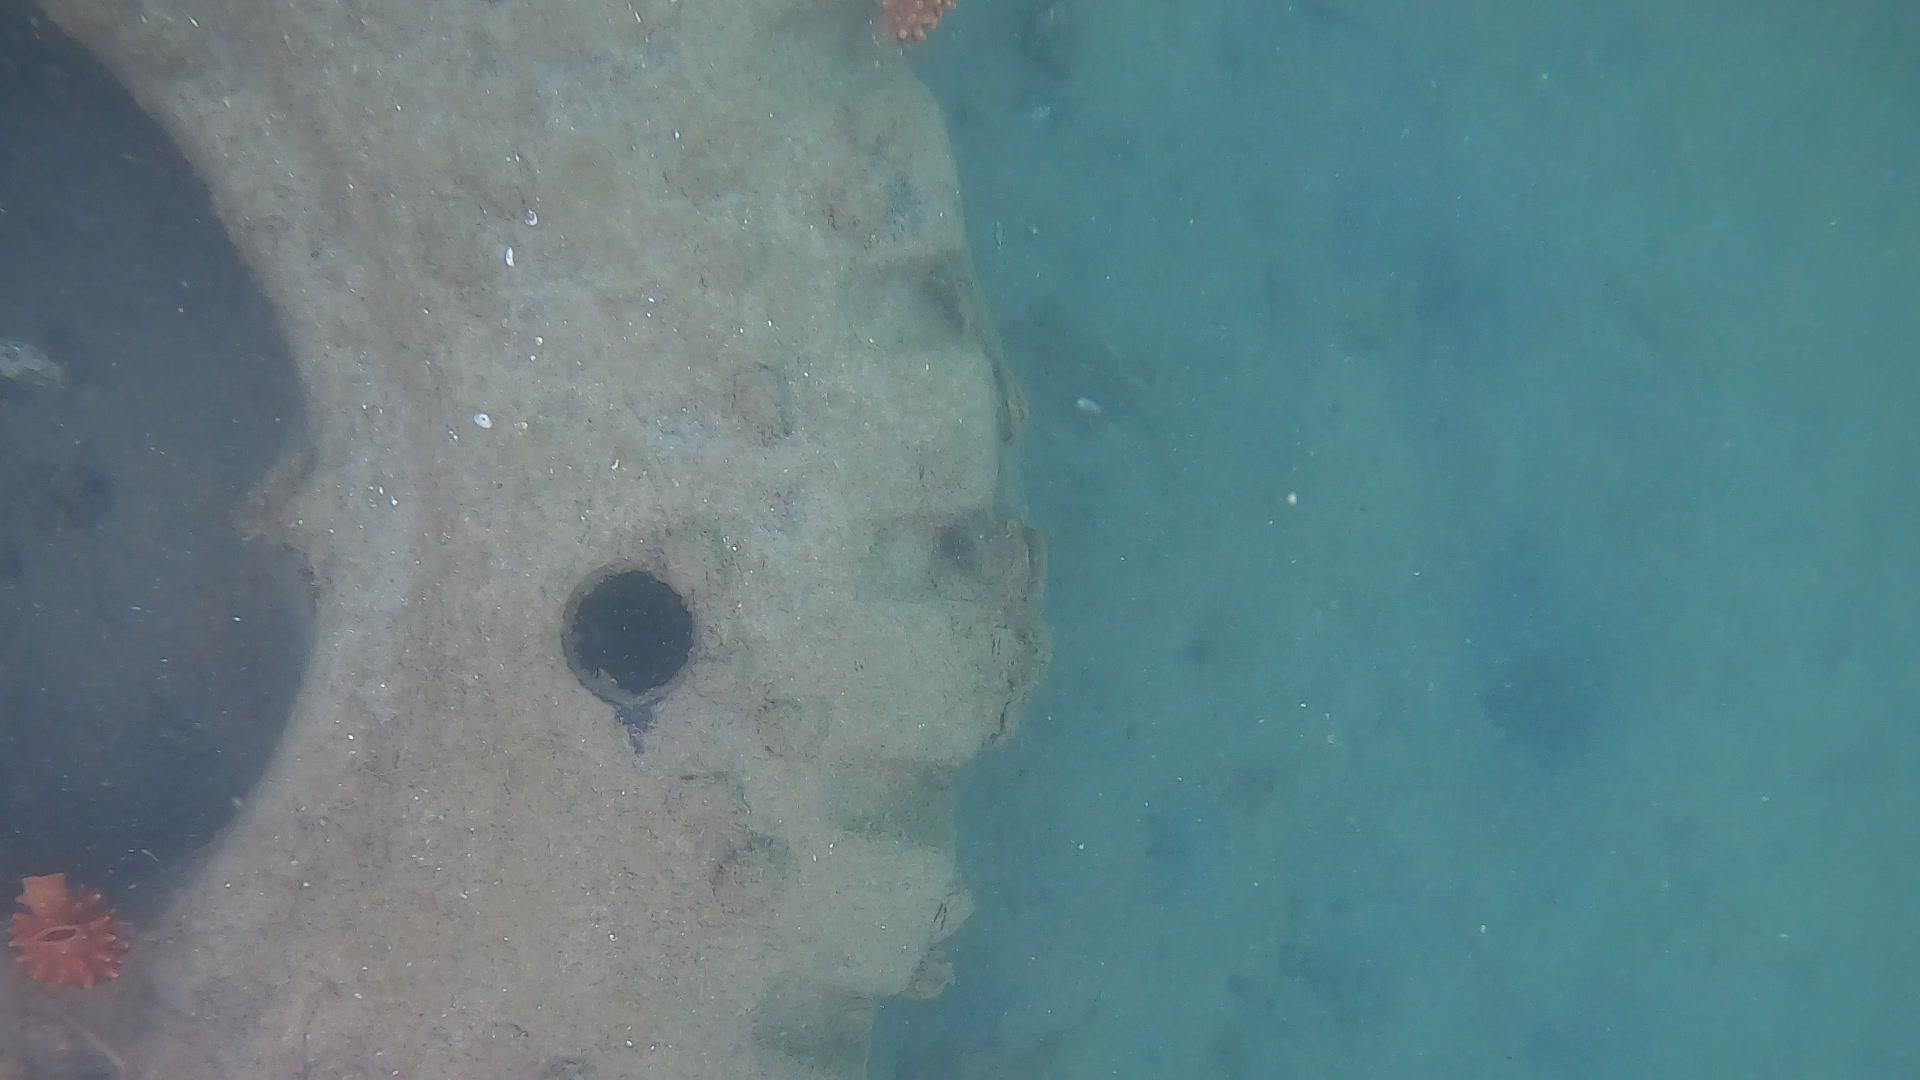tire: (0, 0, 1044, 1080)
